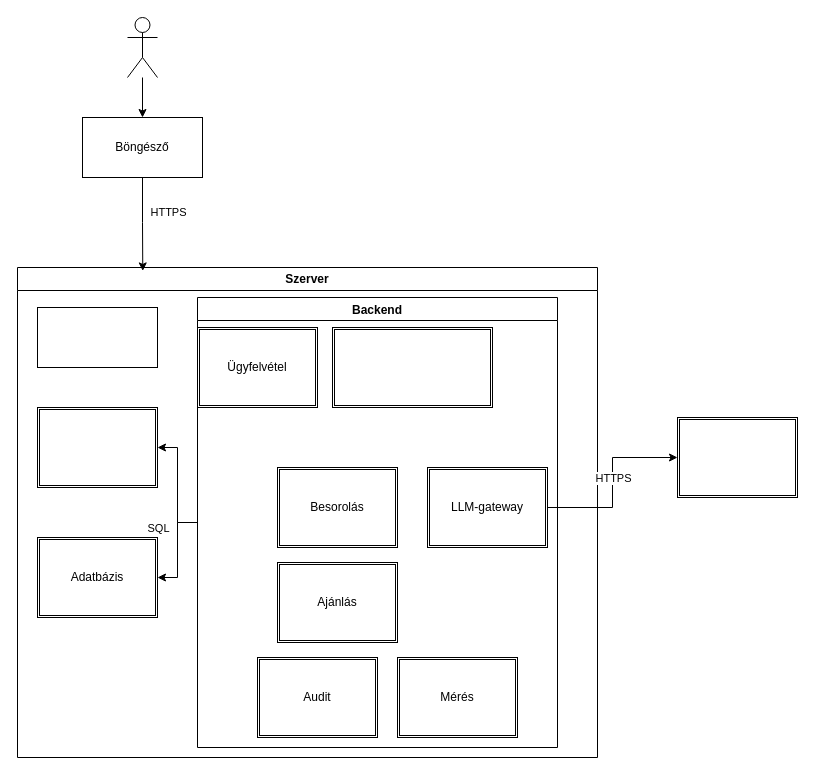
Image size: 815x775. Some labels were removed from this diagram. The centre of each missing label's shape, as x and y in pixels:
"AI LLM-API" belongs at (x=737, y=457).
"Authentication and authorization" belongs at (x=97, y=337).
"Dokumentumfeldolgozás" belongs at (x=412, y=367).
"Fájl tárhelly" belongs at (x=97, y=447).
"Ügyfél" belongs at (x=142, y=47).
